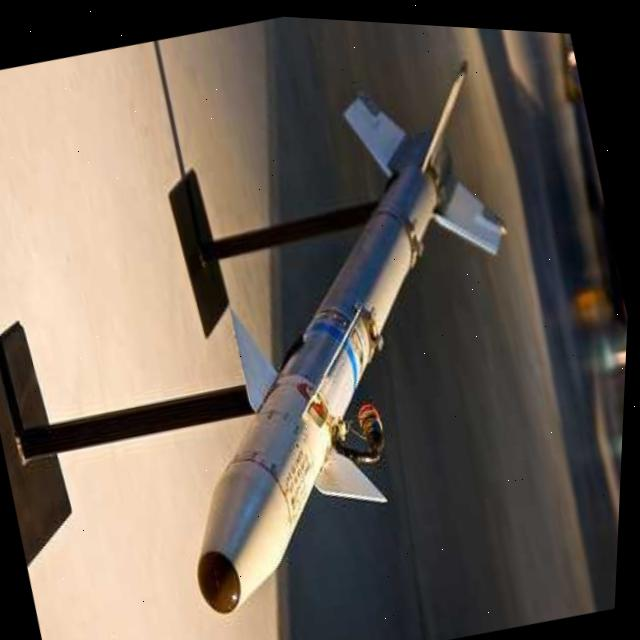missile: (87, 30, 597, 637)
